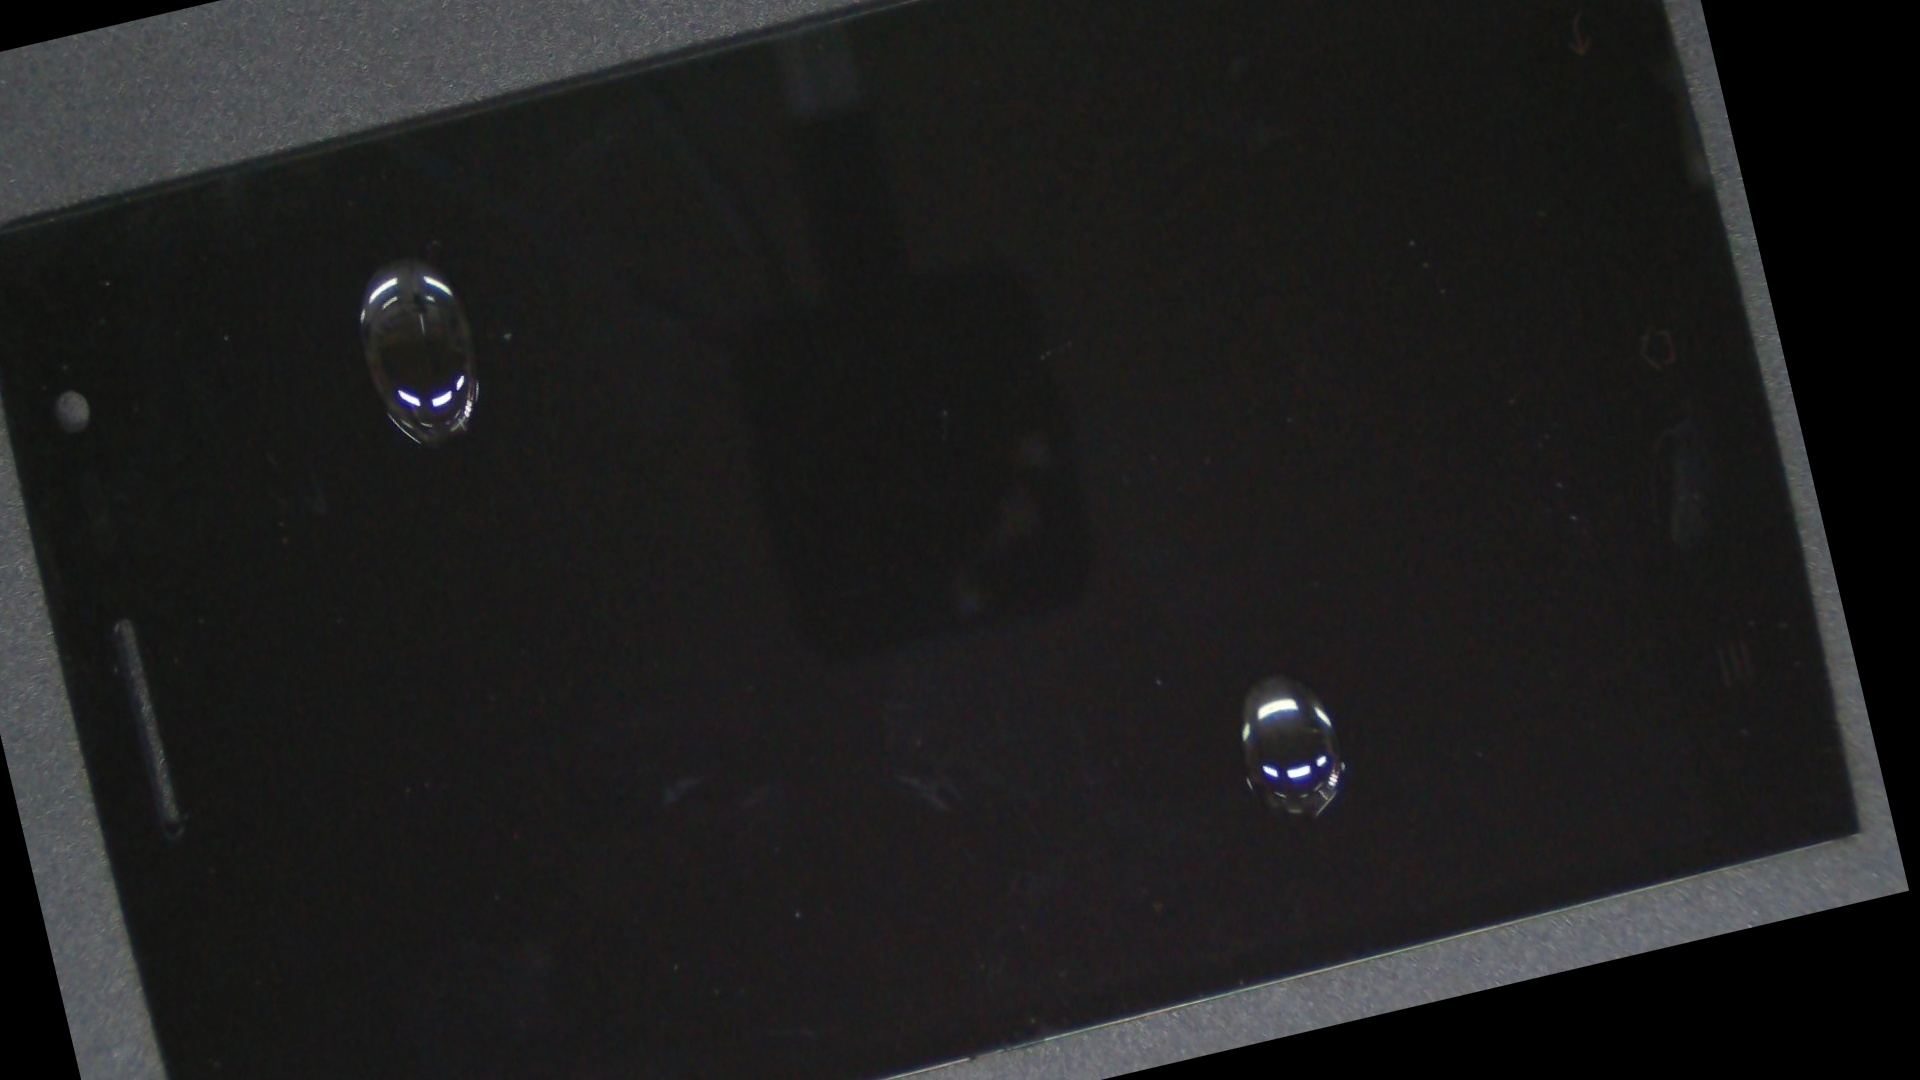oil: (556, 107, 1909, 1080), (120, 65, 659, 463)
